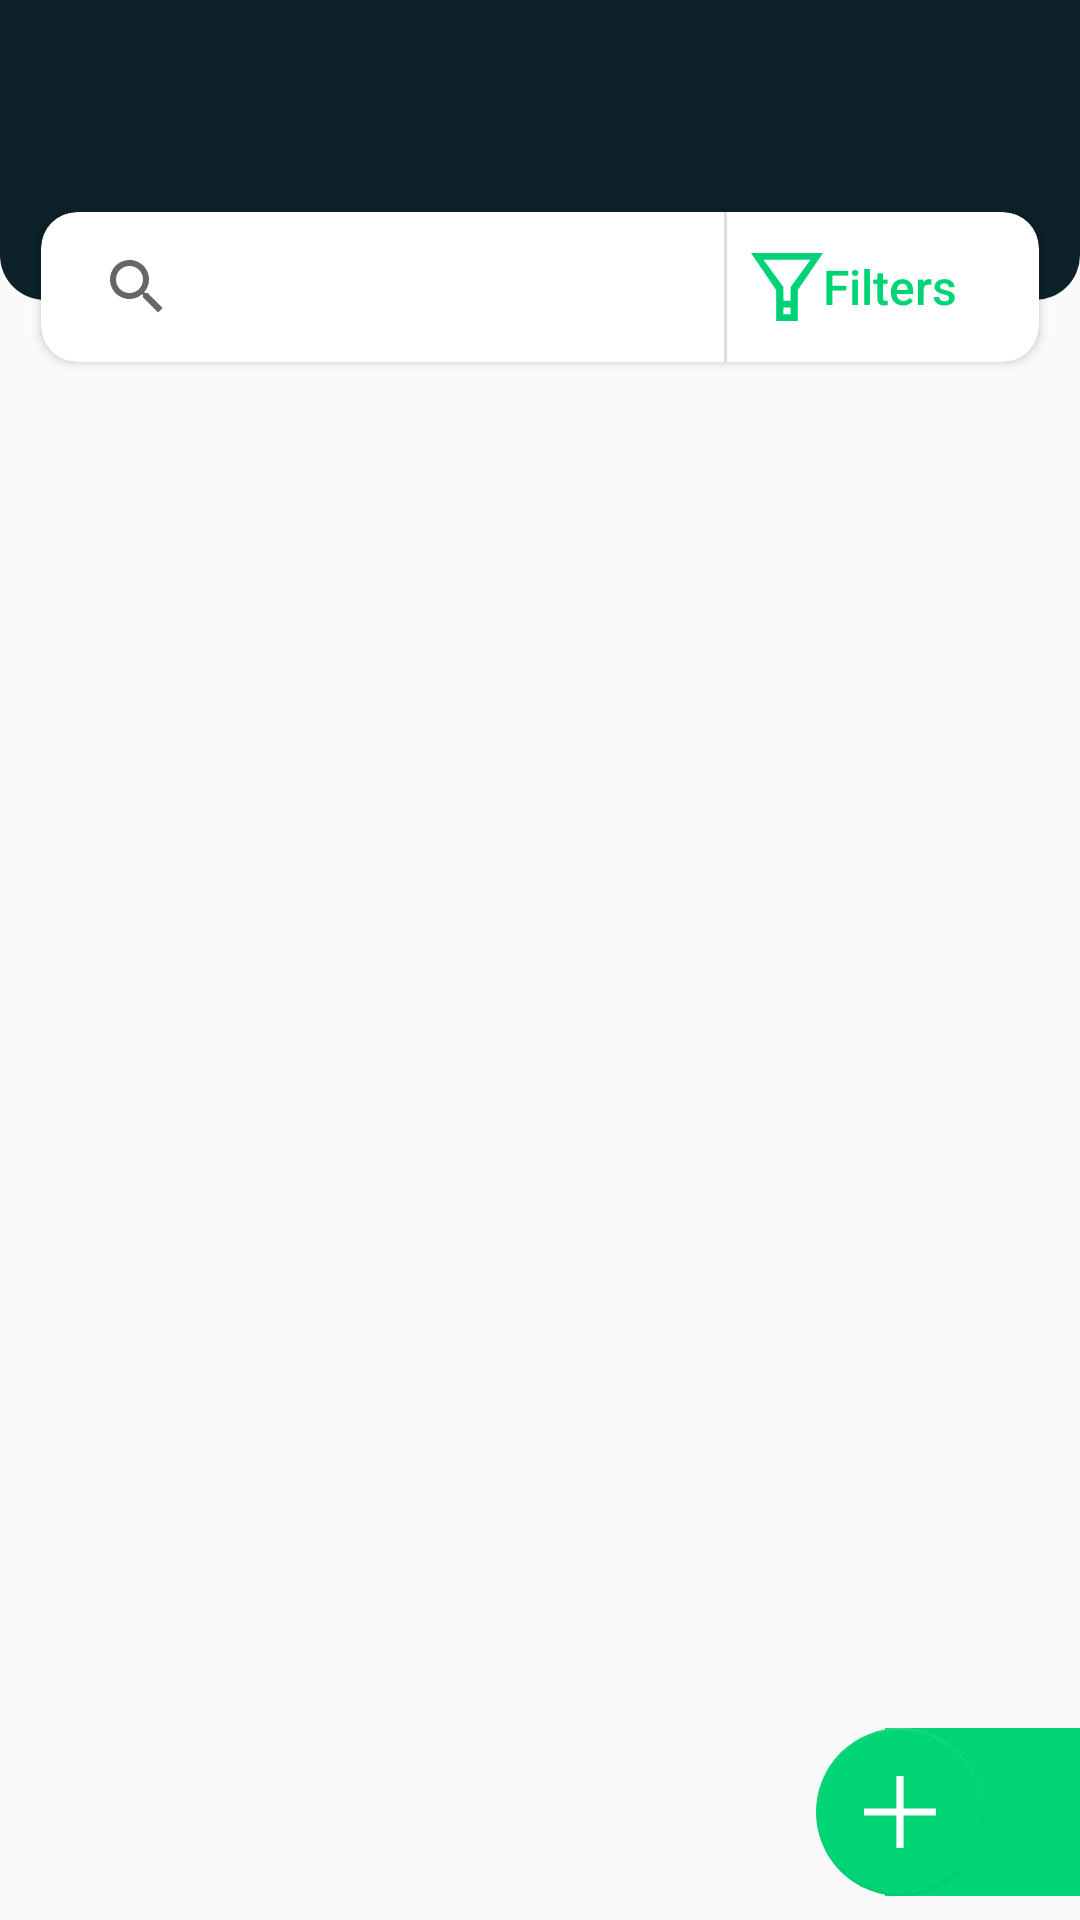

Named icons in this screenshot (1080 × 1920) and their bounding boxes, region(x1, y1, x2, y2):
plus: region(816, 1728, 984, 1896)
